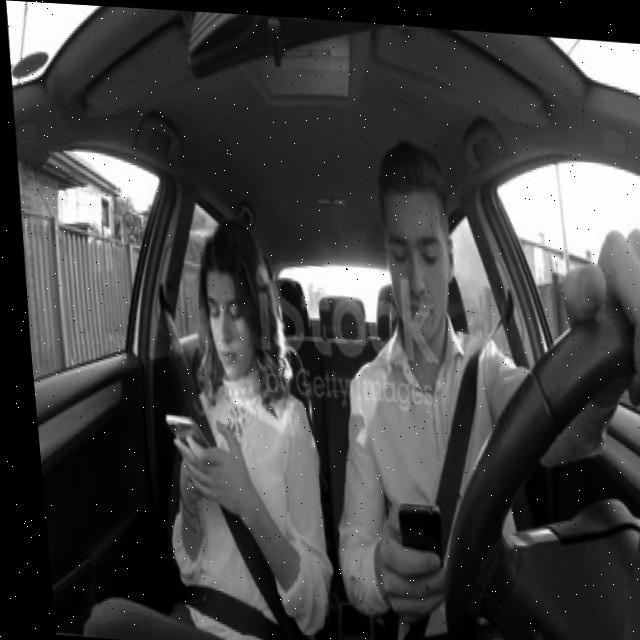PhoneCall: (384, 496, 437, 582), (154, 410, 205, 468)
